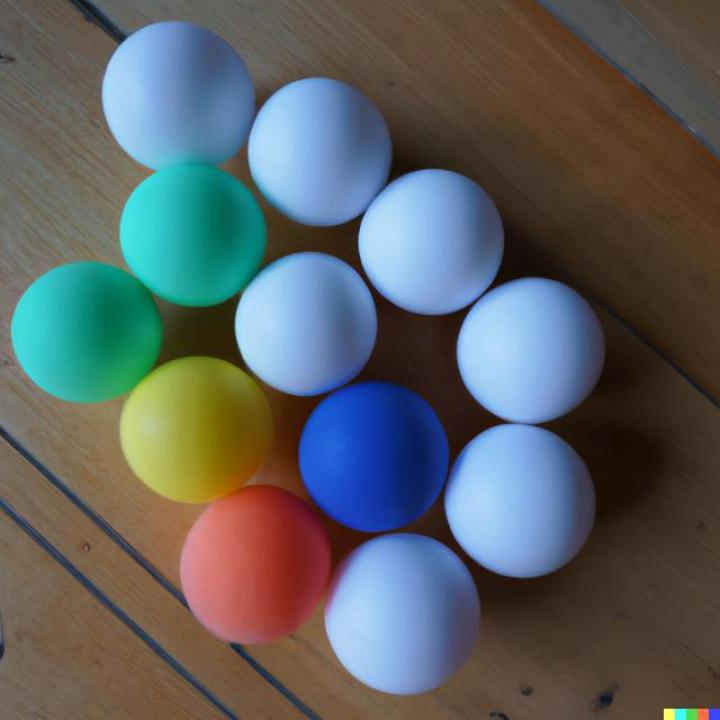orange: (179, 484, 332, 646)
white: (327, 535, 482, 693), (447, 425, 595, 576), (102, 22, 256, 166), (249, 76, 393, 228), (459, 278, 604, 424), (360, 170, 505, 314), (238, 254, 378, 396)
